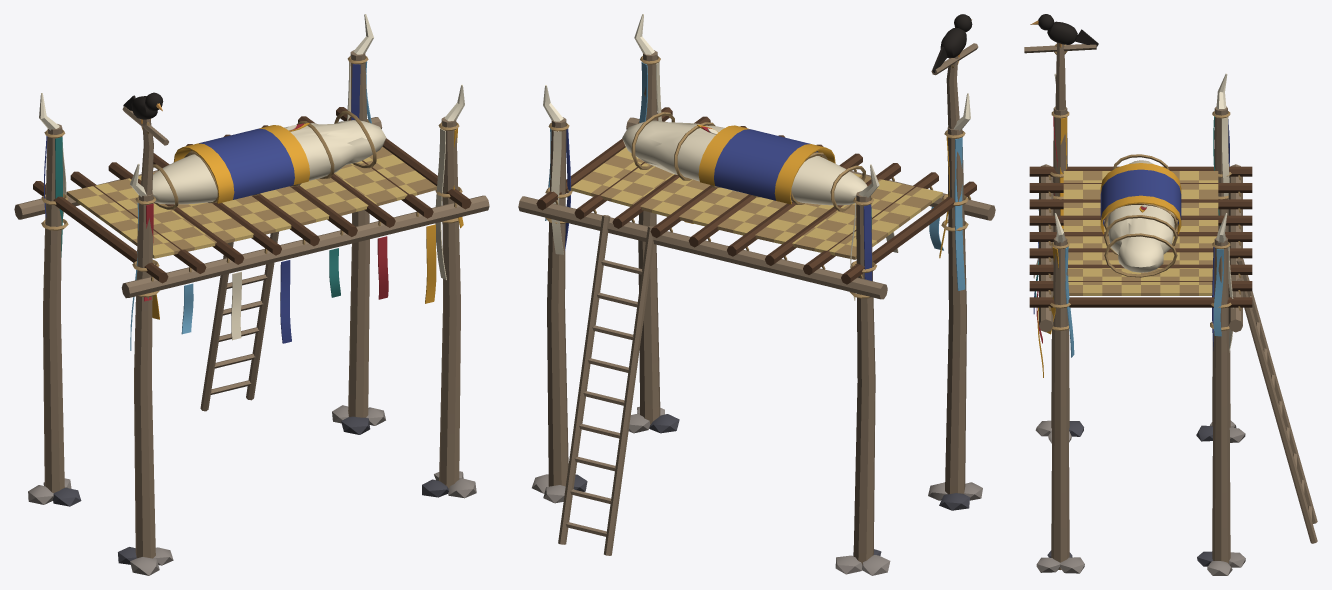
The model's file is deco_sky_burial.fbx.
3 views of the same model, side by side, from view 1: azimuth 30°, elevation 25°; view 2: azimuth 150°, elevation 25°; view 3: azimuth 270°, elevation 25° (orthographic). The views are drawn at different scales.
Parts seen in each view (by area): view 1: SkyBurial_Poles, SkyBurial_Platform, SkyBurial_Shroud, SkyBurial_Ribbons, SkyBurial_Bird; view 2: SkyBurial_Poles, SkyBurial_Platform, SkyBurial_Shroud, SkyBurial_Ribbons, SkyBurial_Bird; view 3: SkyBurial_Platform, SkyBurial_Poles, SkyBurial_Shroud, SkyBurial_Ribbons, SkyBurial_Bird.
Part boxes in pixels (bbox=[...]): SkyBurial_Poles: bbox=[28, 14, 476, 575]; SkyBurial_Platform: bbox=[14, 107, 489, 298]; SkyBurial_Shroud: bbox=[152, 111, 386, 209]; SkyBurial_Ribbons: bbox=[44, 55, 463, 350]; SkyBurial_Bird: bbox=[123, 92, 163, 123]; SkyBurial_Poles: bbox=[532, 14, 982, 575]; SkyBurial_Platform: bbox=[518, 107, 995, 299]; SkyBurial_Shroud: bbox=[622, 112, 867, 211]; SkyBurial_Ribbons: bbox=[545, 56, 965, 300]; SkyBurial_Bird: bbox=[932, 14, 972, 72]; SkyBurial_Platform: bbox=[1029, 164, 1252, 332]; SkyBurial_Poles: bbox=[1024, 42, 1317, 575]; SkyBurial_Shroud: bbox=[1100, 154, 1181, 277]; SkyBurial_Ribbons: bbox=[1033, 111, 1233, 377]; SkyBurial_Bird: bbox=[1030, 14, 1098, 47].
Size of the model in its own units: 356 by 451 by 285.
